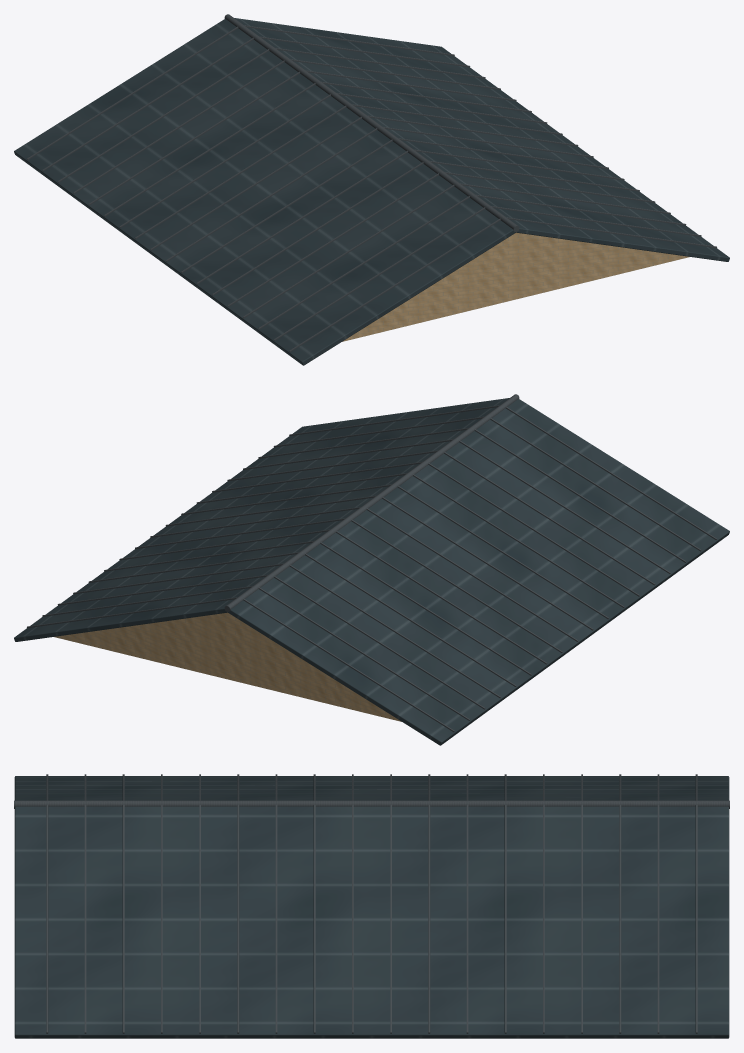
The model's file is roof-standing-seam.lod0.gltf.
3 views of the same model, one above another, from view 1: azimuth 30°, elevation 25°; view 2: azimuth 150°, elevation 25°; view 3: azimuth 270°, elevation 25° (orthographic). The views are drawn at different scales.
Parts seen in each view (by area): view 1: roof-standing-seam; view 2: roof-standing-seam; view 3: roof-standing-seam.
Boxes of the visible parts, box(x1,y1,x2,y2) form: roof-standing-seam: box(14, 14, 729, 365); roof-standing-seam: box(14, 394, 729, 745); roof-standing-seam: box(14, 774, 729, 1038).
Bounding box in the file's own units: 9.42 × 1.86 × 11.02.
Materials: 3 (3 with a texture image).
